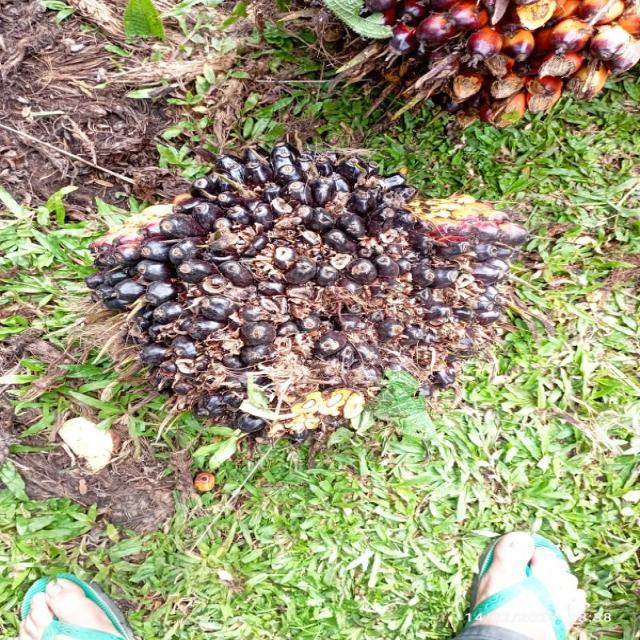fraksi 00: (88, 138, 524, 445)
